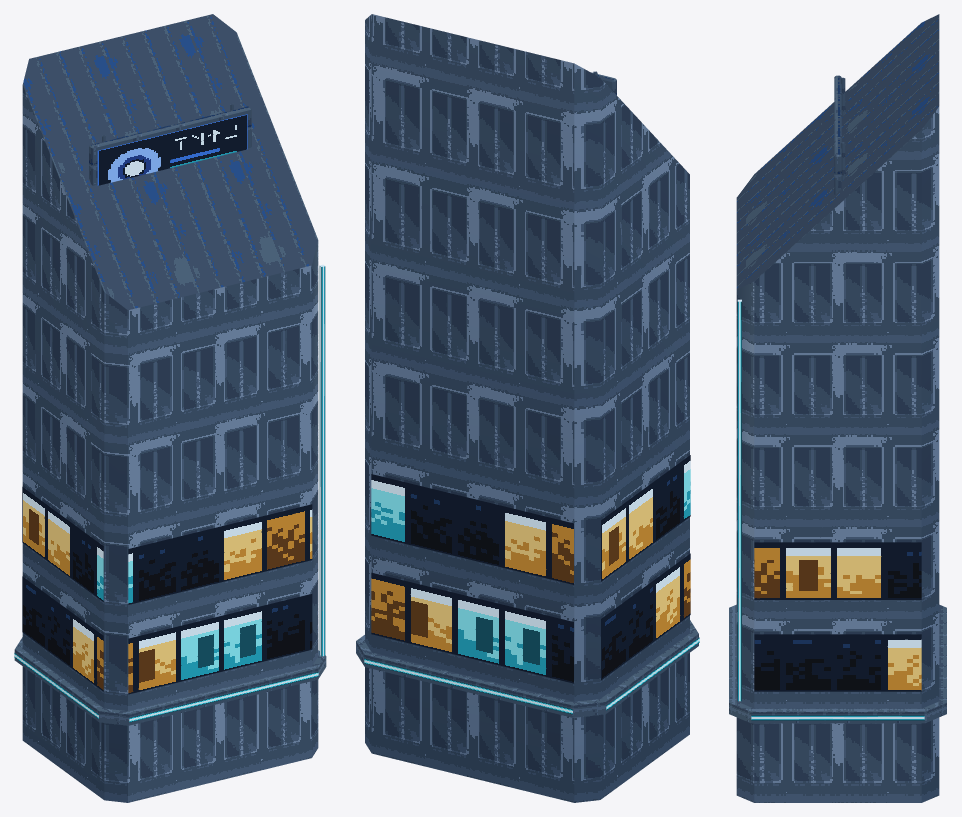
Rendered from cytower.wedge.glb.
3 views of the same model, side by side, from view 1: azimuth 30°, elevation 25°; view 2: azimuth 150°, elevation 25°; view 3: azimuth 270°, elevation 25° (orthographic). The views are drawn at different scales.
Visible parts, largest first — view 1: kit_tower, kit_card_windows, kit_crown; view 2: kit_tower, kit_card_windows; view 3: kit_tower, kit_card_windows, kit_crown.
Part boxes in pixels (<box>): kit_tower: <box>14,14,326,802</box>; kit_card_windows: <box>14,114,318,722</box>; kit_crown: <box>102,103,325,656</box>; kit_tower: <box>356,14,698,802</box>; kit_card_windows: <box>364,455,699,714</box>; kit_tower: <box>729,14,946,802</box>; kit_card_windows: <box>751,542,924,720</box>; kit_crown: <box>737,77,845,701</box>.
Size of the model in its own units: 10.65 by 30 by 8.65.
Materials: 8 (8 with a texture image).
